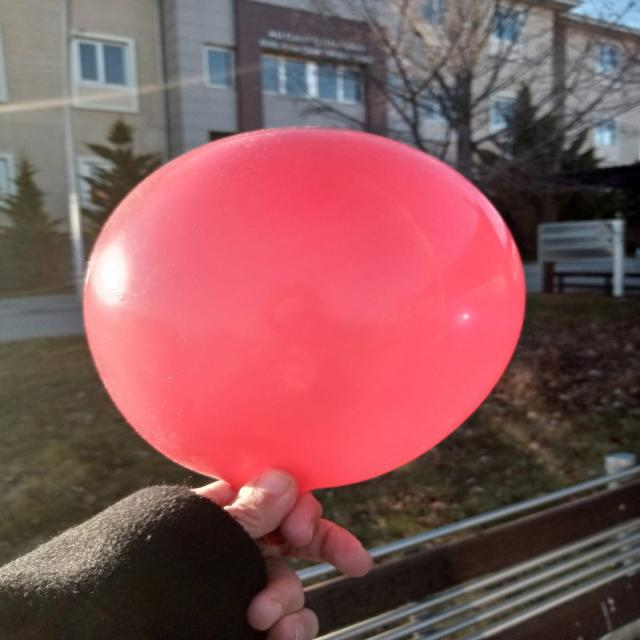balloon: (84, 128, 525, 492)
